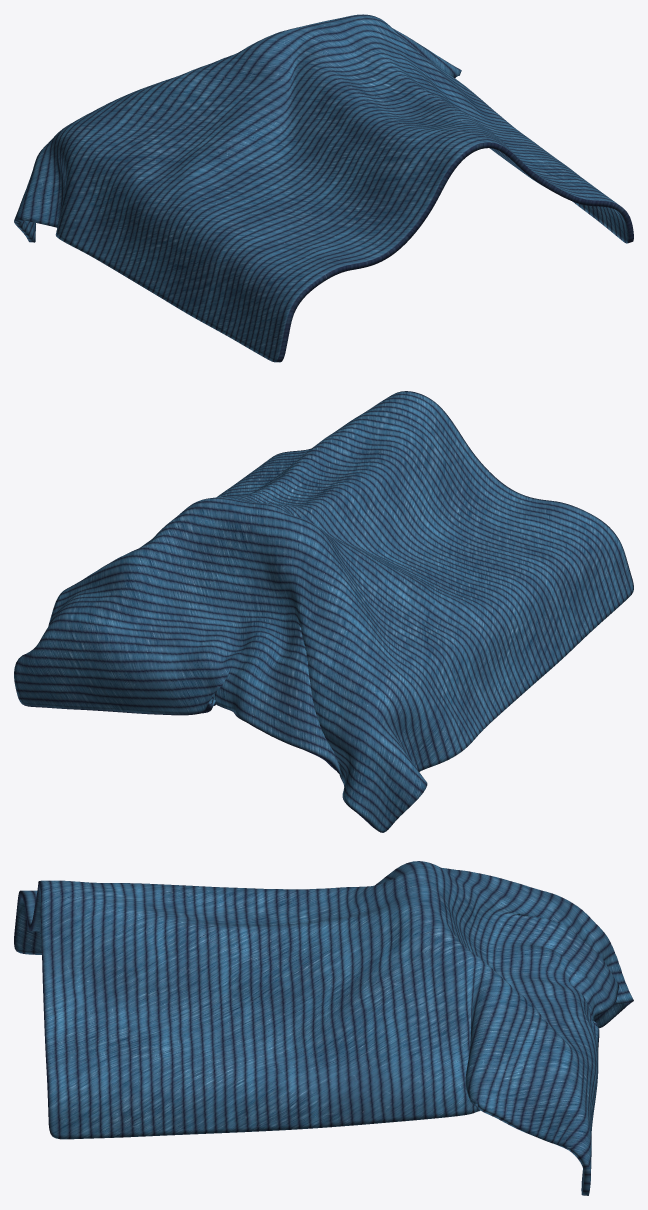
Rendered from odeyalo.glb.
3 views of the same model, one above another, from view 1: azimuth 30°, elevation 25°; view 2: azimuth 150°, elevation 25°; view 3: azimuth 270°, elevation 25° (orthographic). The views are drawn at different scales.
Visible parts, largest first — view 1: Plane; view 2: Plane; view 3: Plane.
Part boxes in pixels (bbox=[...]): Plane: bbox=[14, 14, 633, 362]; Plane: bbox=[14, 391, 633, 832]; Plane: bbox=[14, 861, 633, 1195].
Bounding box in the file's own units: 1.65 × 0.8611 × 1.85.
Materials: 1 (1 with a texture image).
